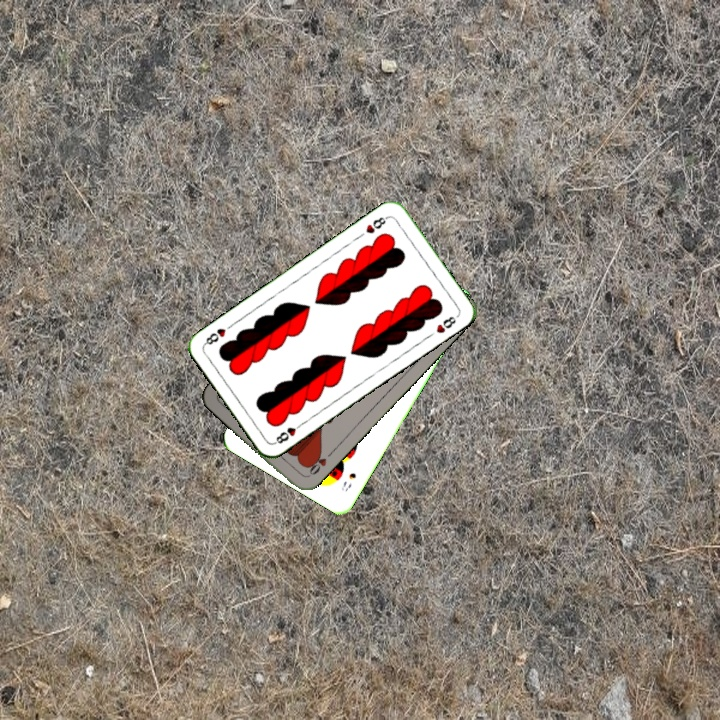H8: (270, 419, 306, 447), (362, 212, 392, 236)
HO: (302, 447, 335, 480)
S8: (337, 469, 359, 494)
